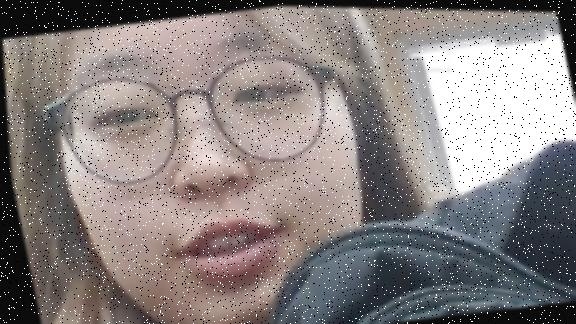eye: (241, 83, 264, 104), (114, 104, 136, 124)
iris: (98, 101, 157, 126), (232, 80, 288, 105)
